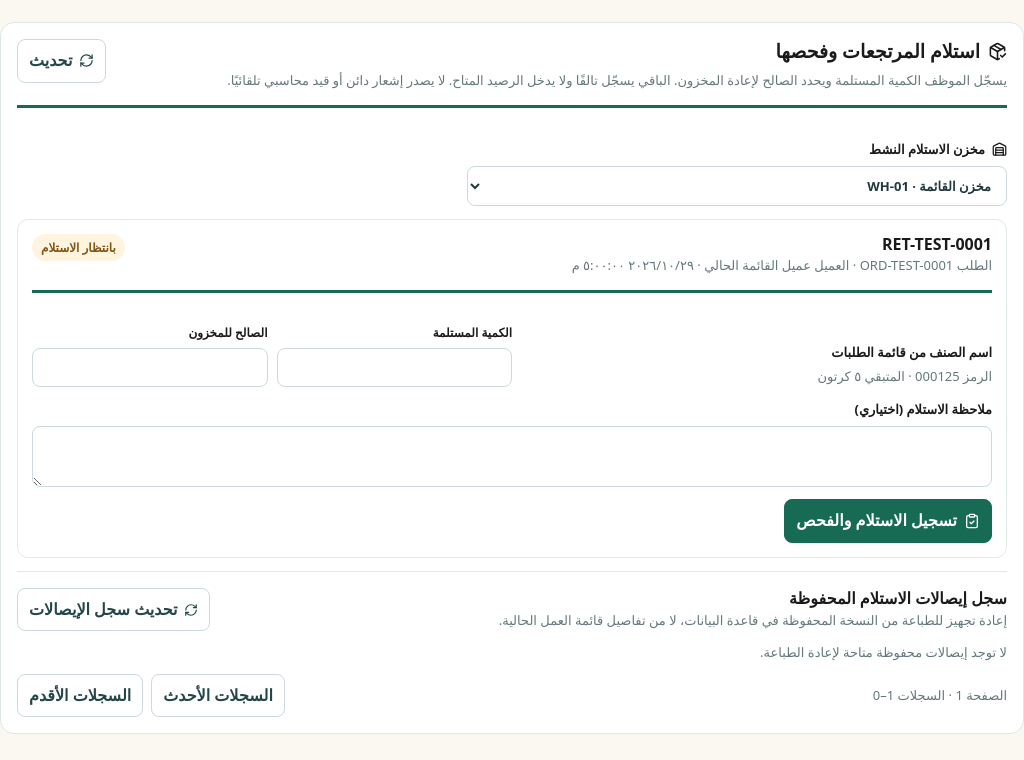
Scenario: warehouse return receipt printing › does not render a print button or pretend the receipt snapshot loaded when persisted totals disagree
The image size is (1024, 760).
Expected: the text "اسم الصنف من قائمة الطلبات" is shown, [831,343,992,361]
In the number field labelled "الكمية المستلمة": [394, 367] box [276,348,512,387], type "1.25"
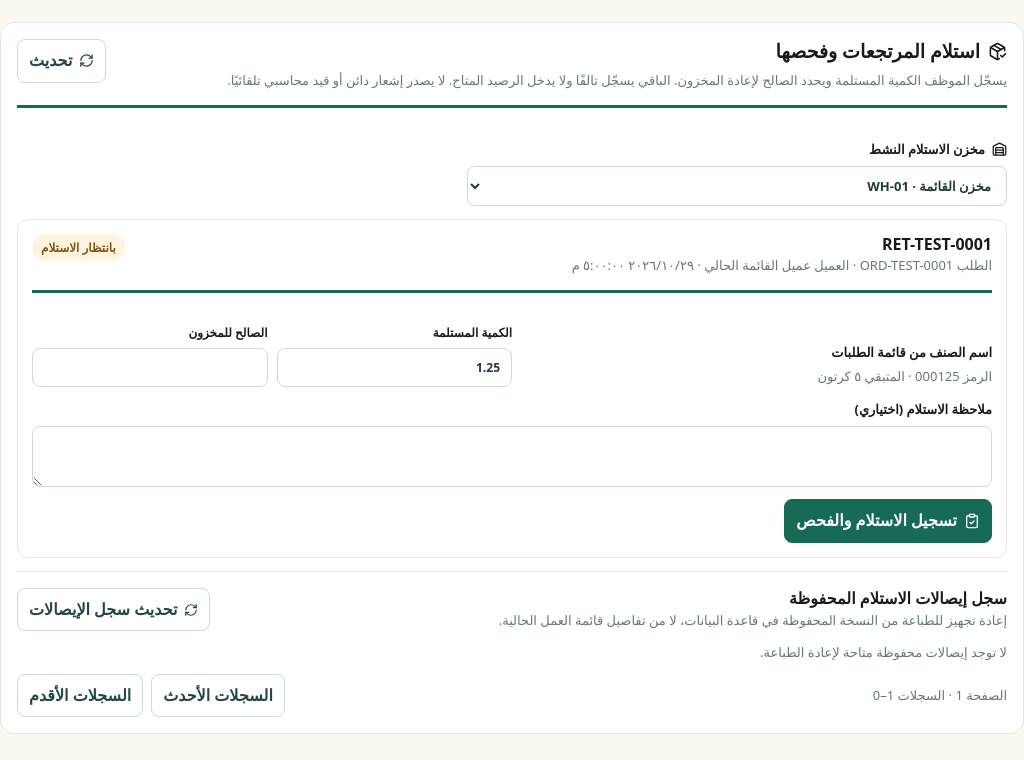
In the number field labelled "الصالح للمخزون": [150, 367] box [32,348,268,387], type "1"
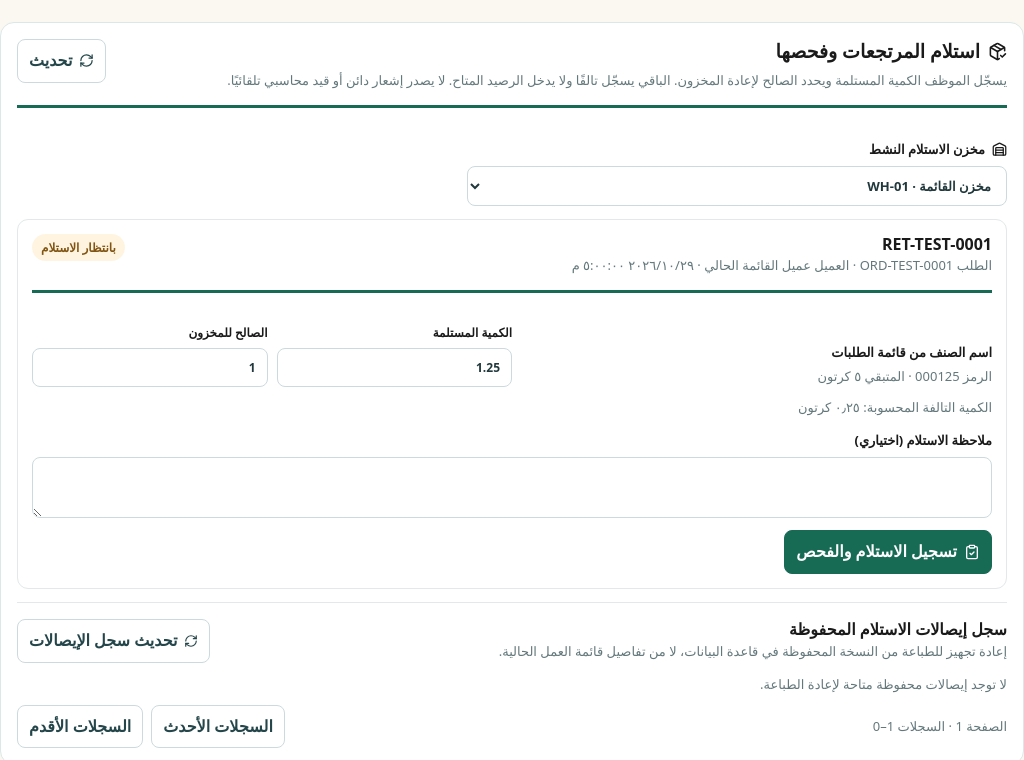
Click the button "تسجيل الاستلام والفحص": [888, 552] box [784,530,992,574]
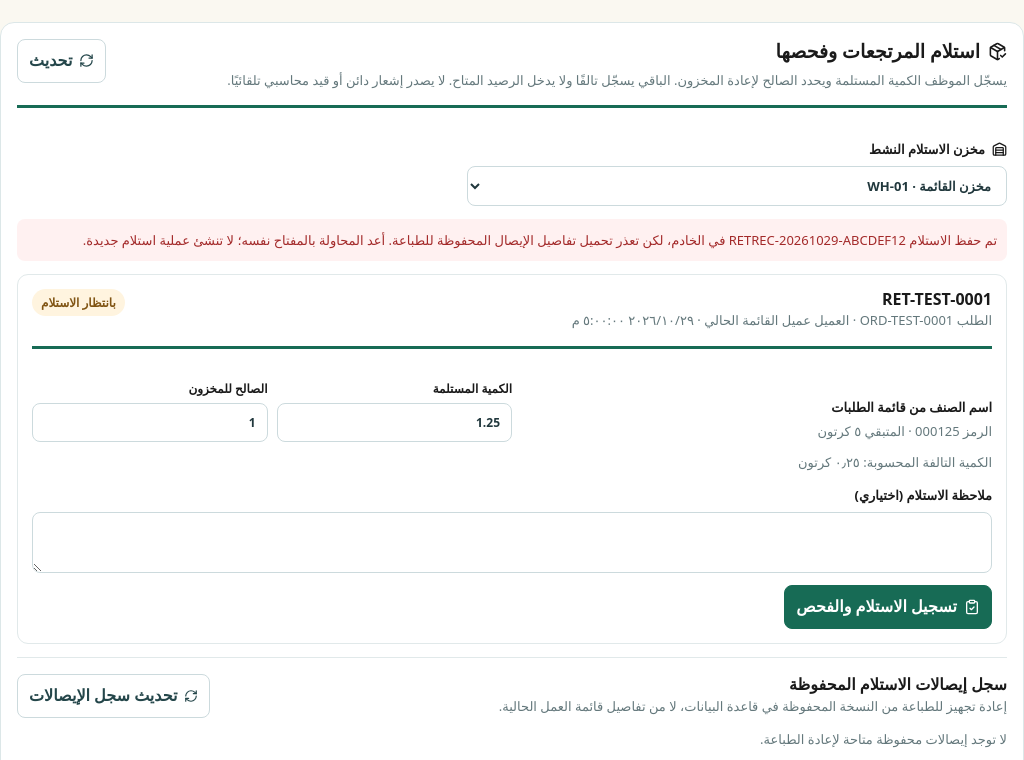
Expected: the message shows "تم حفظ الاستلام RETREC-20261029-ABCDEF12", [83,231,997,249]
